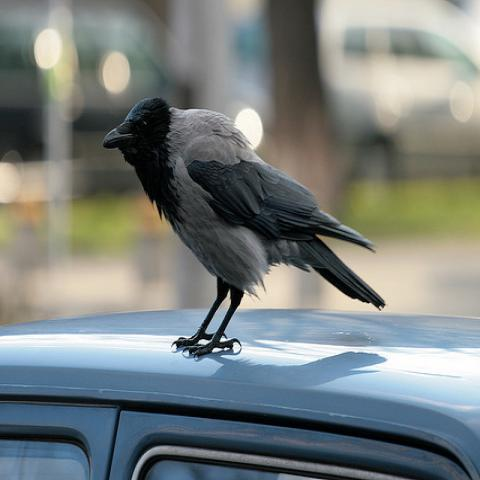car: (0, 307, 479, 479), (314, 1, 479, 182)
